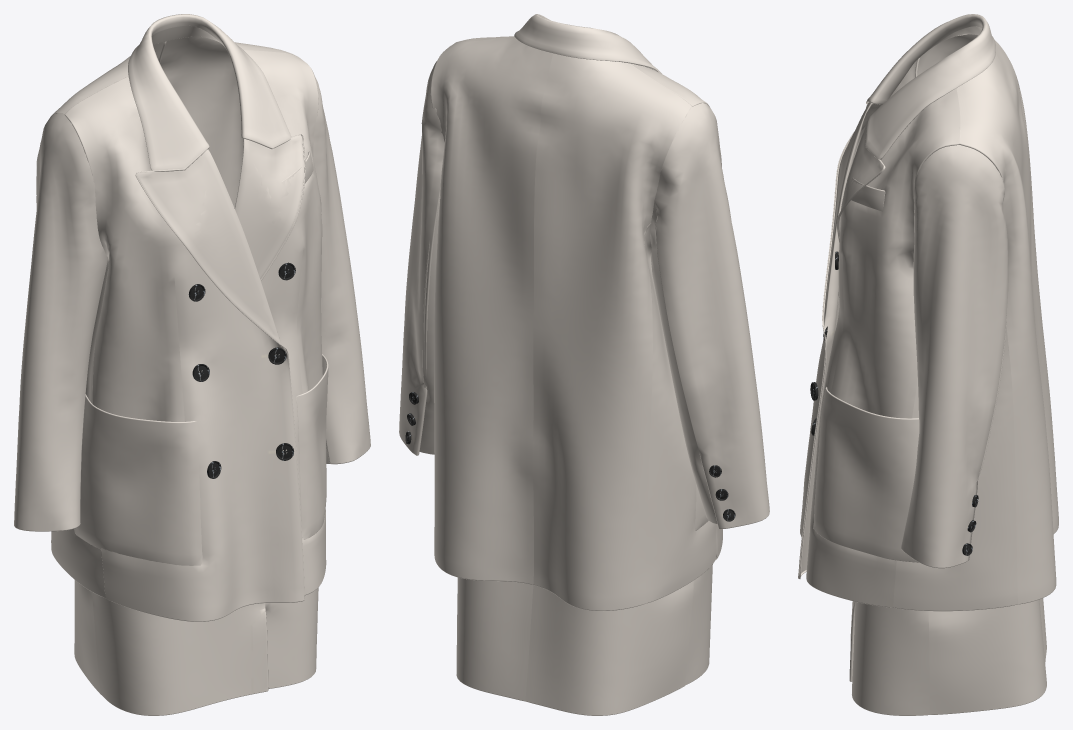
Rendered from beige_business_suit_with_short_skirt.glb.
The picture shows the model from 3 angles, left to right: view 1: azimuth 30°, elevation 25°; view 2: azimuth 150°, elevation 25°; view 3: azimuth 270°, elevation 25°; orthographic projection. The views are drawn at different scales.
Parts seen in each view (by area): view 1: Object_14, Object_19, Object_18, Object_15, Object_16, Object_21, Object_13, Object_20, Object_17, Object_24; view 2: Object_21, Object_20, Object_19, Object_17, Object_13, Object_18, Object_15, Object_14; view 3: Object_21, Object_20, Object_16, Object_18, Object_17, Object_15, Object_13, Object_14, Object_19.
Boxes of the visible parts, x1,y1,x2,y2 form: Object_14: [64, 76, 304, 621]; Object_19: [14, 112, 107, 694]; Object_18: [74, 151, 328, 565]; Object_15: [93, 587, 318, 715]; Object_16: [234, 50, 326, 595]; Object_21: [51, 41, 370, 549]; Object_13: [128, 14, 291, 171]; Object_20: [158, 36, 297, 207]; Object_17: [51, 25, 329, 597]; Object_24: [188, 262, 295, 478]; Object_21: [399, 53, 691, 611]; Object_20: [430, 36, 552, 701]; Object_19: [525, 103, 769, 715]; Object_17: [419, 51, 716, 603]; Object_13: [514, 14, 661, 73]; Object_18: [650, 200, 717, 530]; Object_15: [685, 564, 712, 685]; Object_14: [629, 63, 722, 559]; Object_21: [901, 34, 1058, 568]; Object_20: [928, 54, 1056, 714]; Object_16: [806, 88, 960, 607]; Object_18: [813, 177, 919, 562]; Object_17: [893, 26, 1017, 611]; Object_15: [849, 601, 929, 715]; Object_13: [865, 14, 995, 159]; Object_14: [798, 60, 917, 578]; Object_19: [915, 34, 1046, 662].
Bounding box in the file's own units: 537 × 926 × 340.
Materials: 15 (3 with a texture image).
